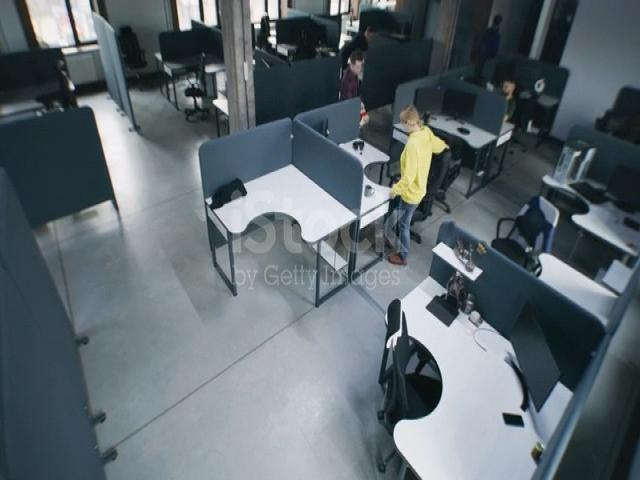empty chair: (382, 286, 434, 446), (495, 181, 558, 281), (47, 51, 92, 122), (176, 58, 216, 136), (111, 13, 149, 84), (441, 114, 464, 219), (415, 141, 431, 235), (330, 58, 350, 78)
occupiedchair: (488, 64, 529, 170), (591, 97, 640, 138)
